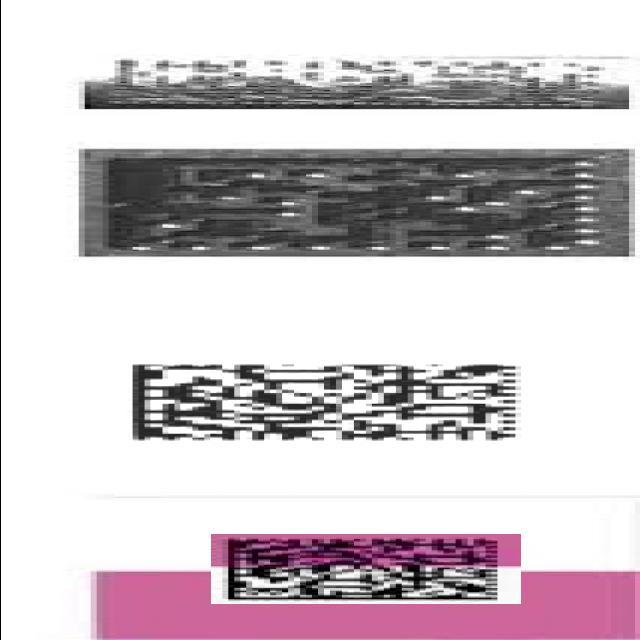Data-Matrix: (96, 356, 556, 449), (210, 534, 520, 604)
